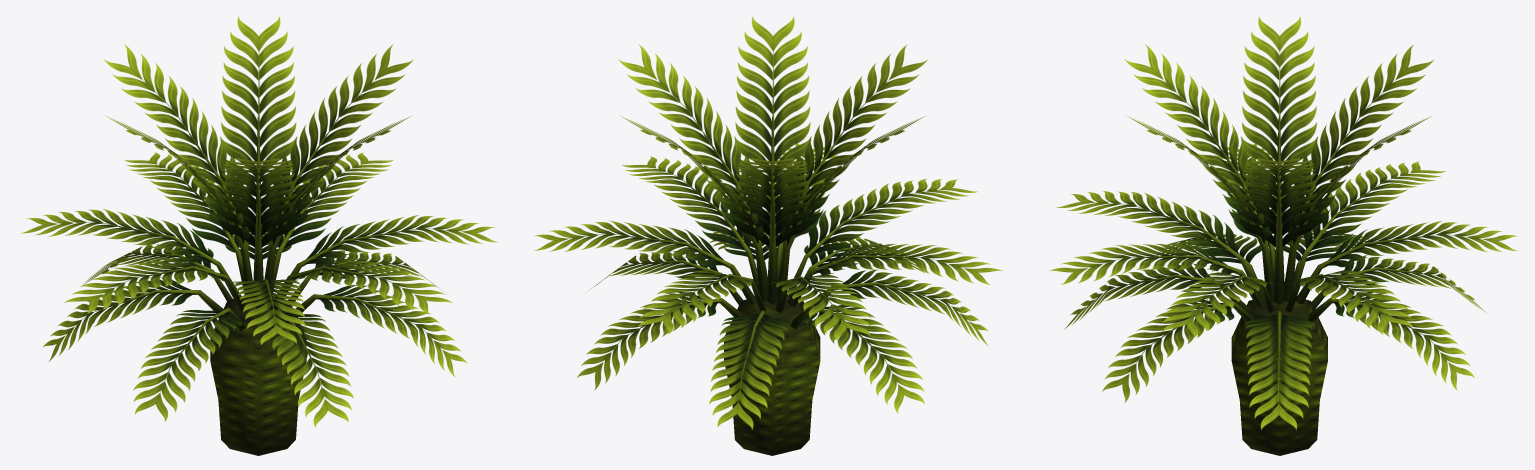
File: Tree7.glb
3 views of the same model, side by side, from view 1: azimuth 30°, elevation 25°; view 2: azimuth 150°, elevation 25°; view 3: azimuth 270°, elevation 25° (orthographic).
Parts seen in each view (by area): view 1: Tree_15; view 2: Tree_15; view 3: Tree_15.
Part boxes in pixels (left/top/right/bottom): Tree_15: left=20, top=16, right=497, bottom=455; Tree_15: left=534, top=16, right=1002, bottom=455; Tree_15: left=1049, top=16, right=1517, bottom=455.
Bounding box in the file's own units: 57.71 × 47.47 × 58.04.
Materials: 1 (1 with a texture image).
